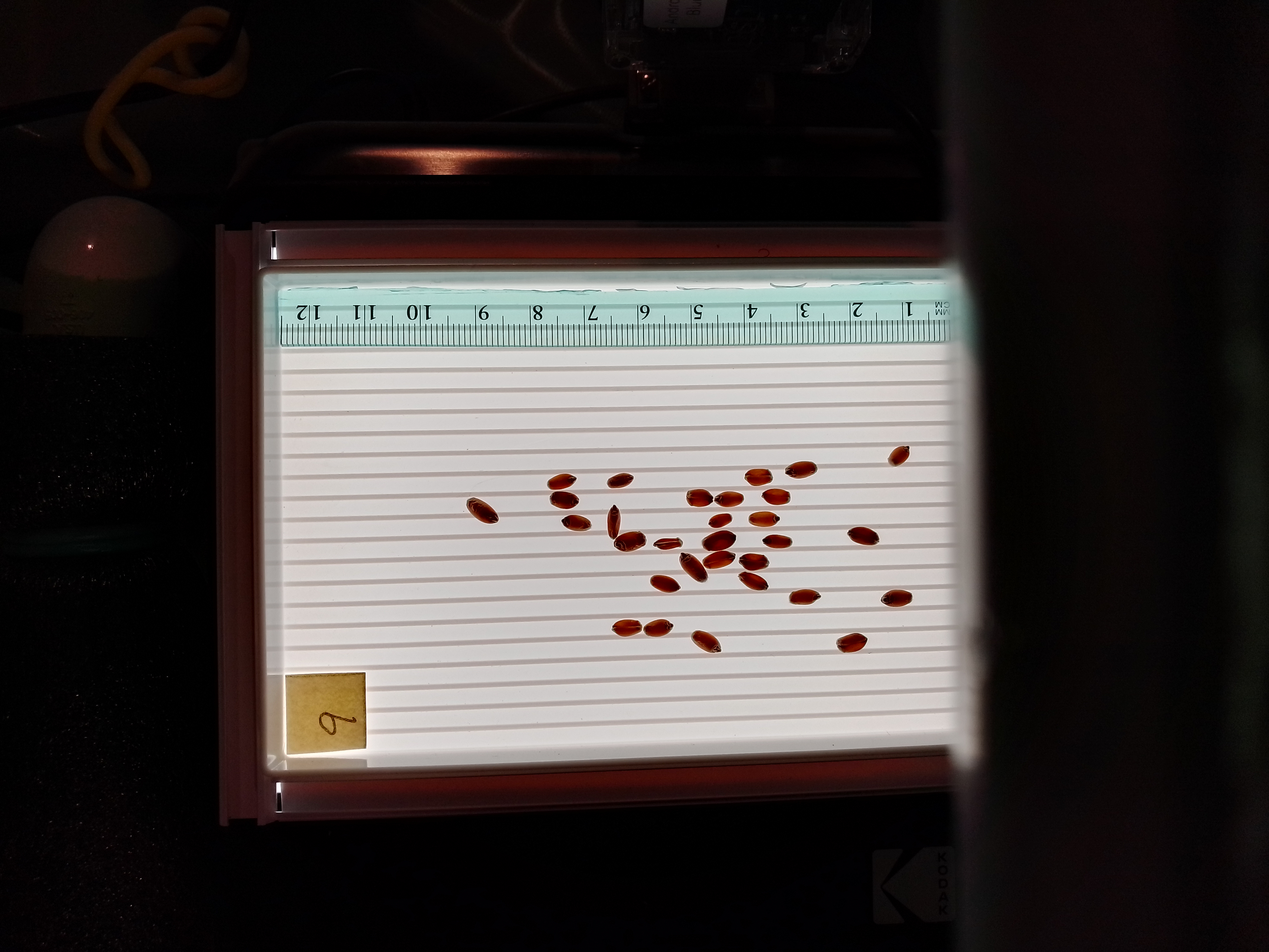seed mask: (467, 499, 498, 524), (680, 554, 707, 582), (692, 631, 721, 653), (703, 531, 734, 551), (615, 532, 645, 552), (848, 527, 879, 545), (613, 619, 642, 638), (644, 619, 673, 638), (837, 634, 867, 652), (704, 551, 734, 569), (740, 572, 768, 591), (562, 514, 591, 532), (786, 462, 817, 478), (883, 590, 912, 607), (551, 491, 578, 509), (746, 468, 772, 486), (741, 553, 768, 570), (548, 474, 575, 491), (651, 576, 678, 593), (790, 590, 820, 605), (750, 512, 779, 527), (607, 507, 621, 538), (763, 489, 790, 505), (686, 490, 713, 506), (608, 473, 633, 490), (716, 491, 743, 506), (889, 446, 910, 465), (764, 535, 792, 549), (709, 513, 732, 528), (654, 538, 682, 550)
